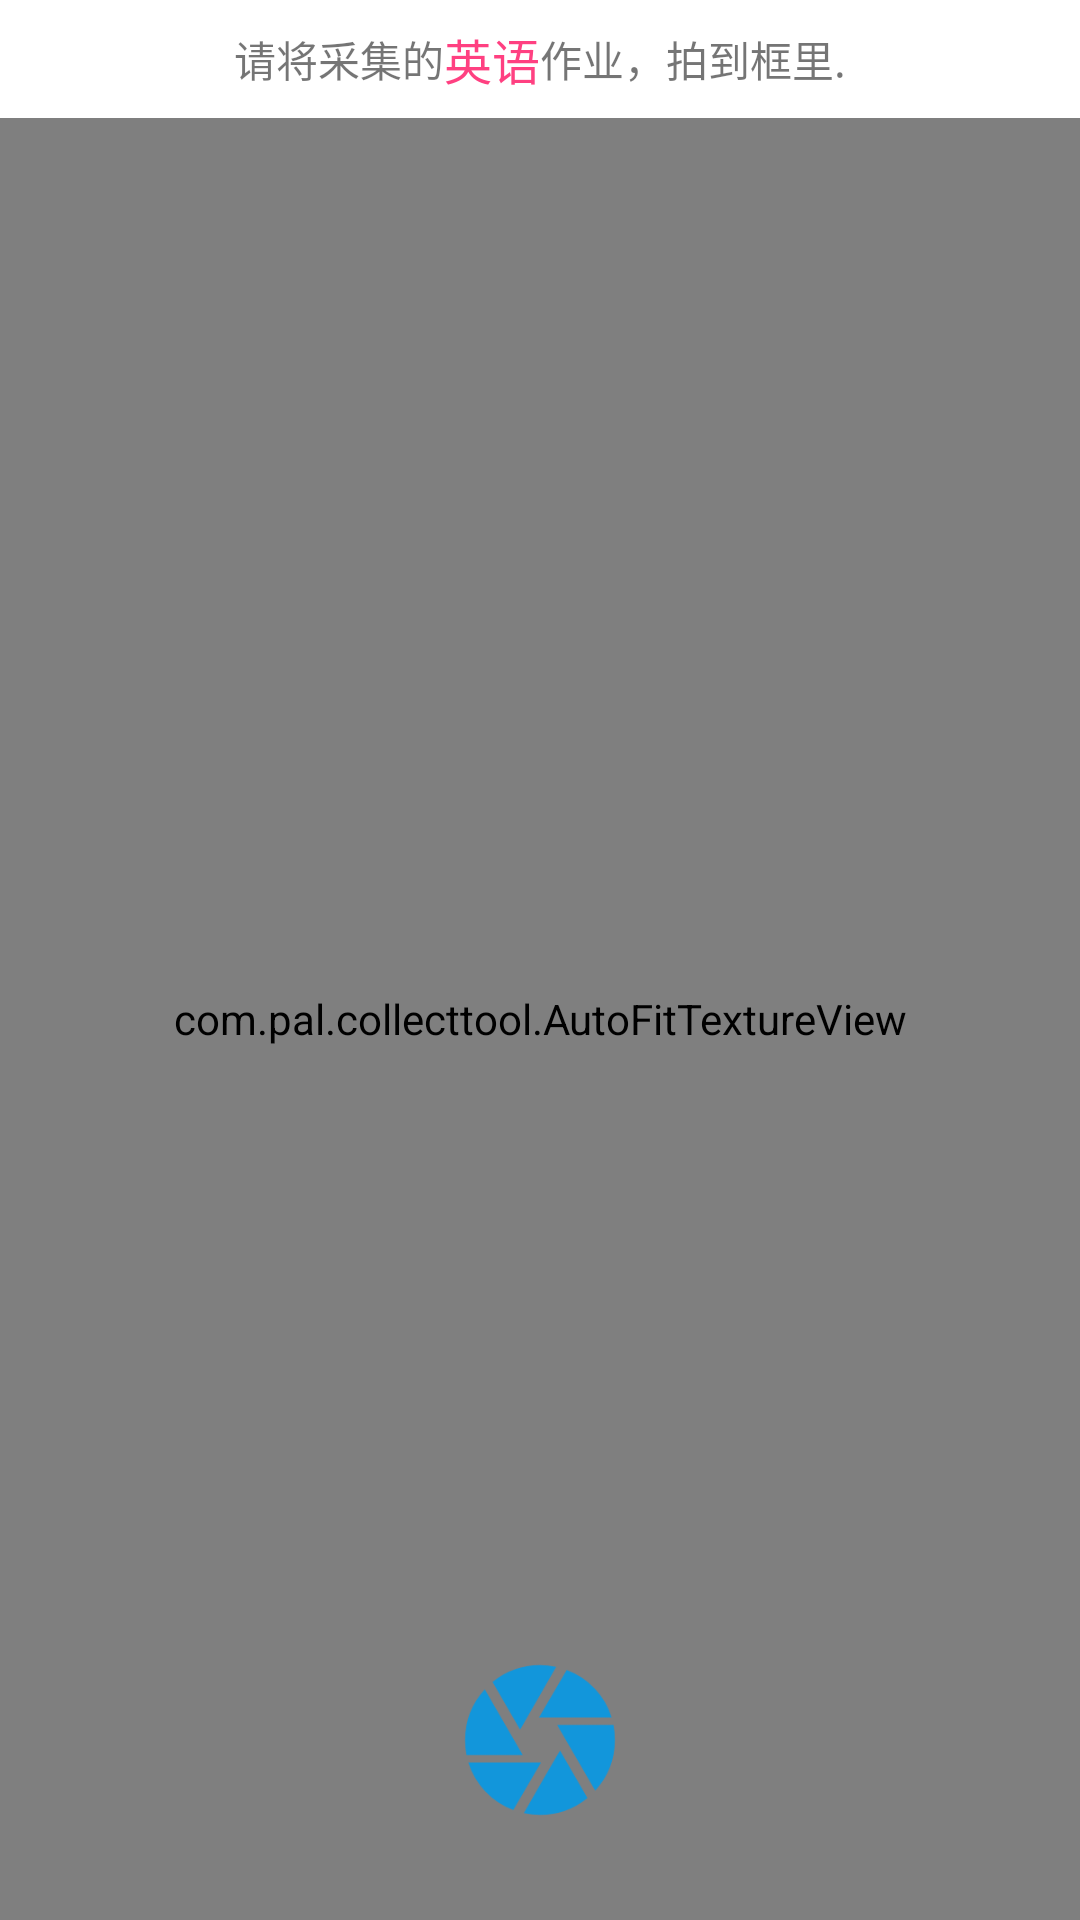

Point at icon controls on the screen. Image size 1080*1920, points as (x,y).
camera: (540,1740)
